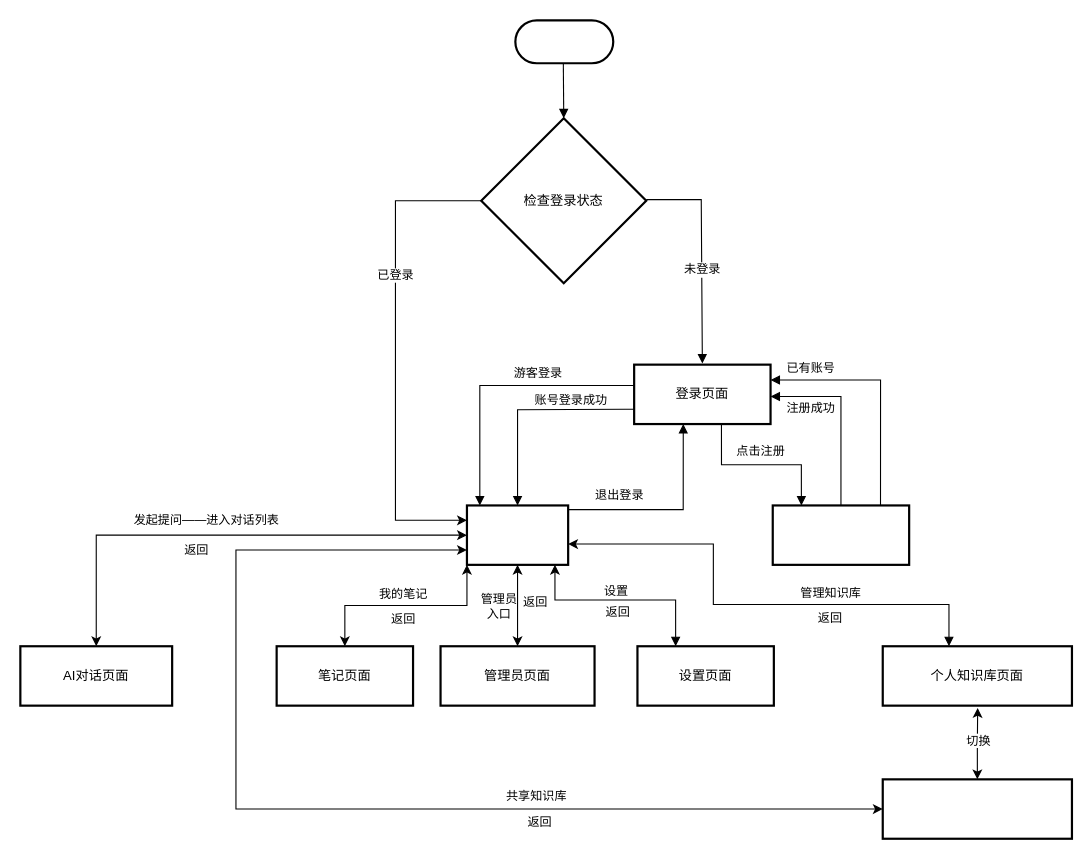
Image size: 1091x858. Some labels were removed from this diagram. The centre of each missing label's shape, as x and y in pixels:
共享知识库页面: pixel 976 808
注册页面: pixel 840 534
系统启动: pixel 564 41
首页: pixel 517 534
